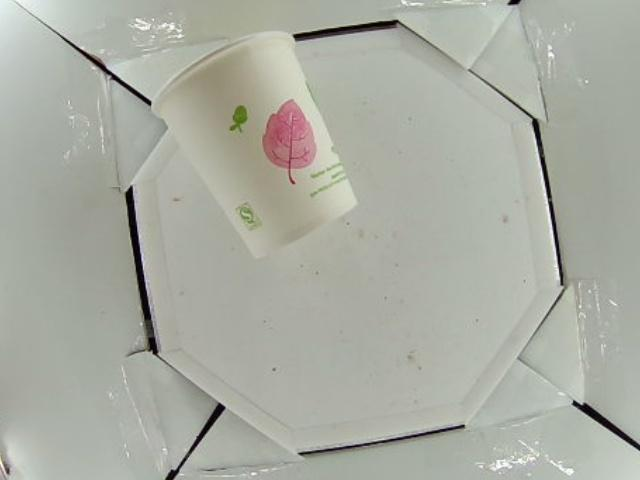Cup: (147, 33, 358, 258)
